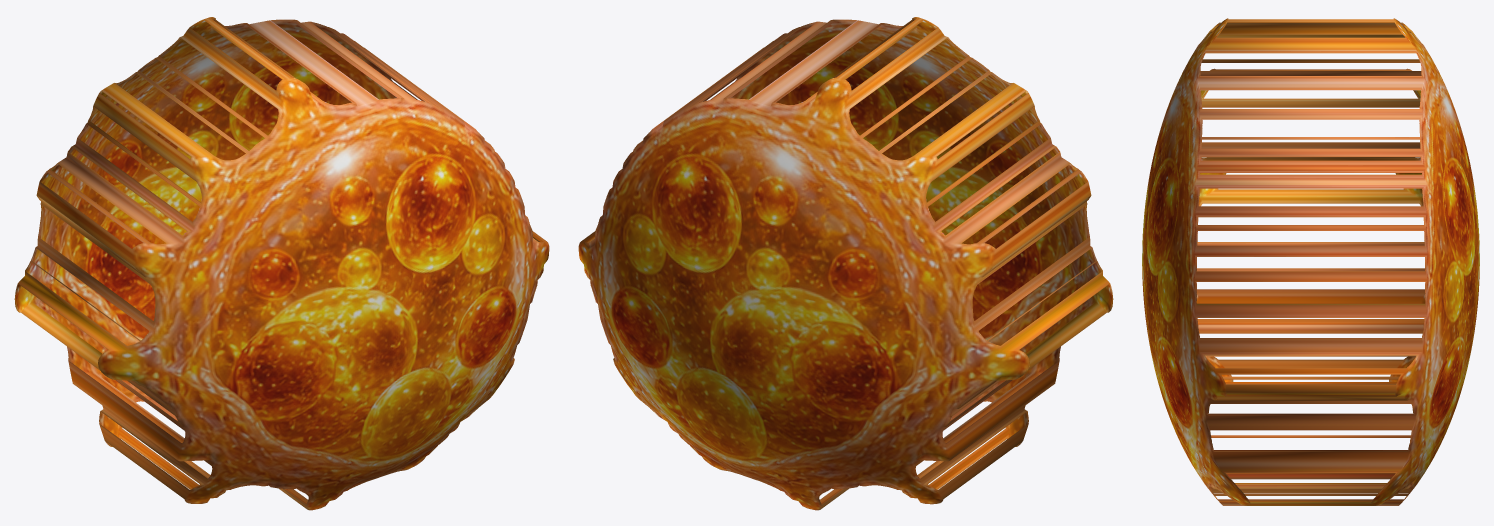
3 renders of one model, left to right at view 1: azimuth 30°, elevation 25°; view 2: azimuth 150°, elevation 25°; view 3: azimuth 270°, elevation 25°, orthographic.
Parts seen in each view (by area): view 1: cells:0; view 2: cells:0; view 3: cells:0.
Part boxes in pixels (<box>): cells:0: <box>14,17,549,510</box>; cells:0: <box>578,17,1113,510</box>; cells:0: <box>1142,18,1479,505</box>.
Bounding box in the file's own units: 1.03 × 0.9556 × 0.6599.
Materials: 1 (1 with a texture image).
